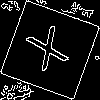X: (25, 25, 75, 81)
